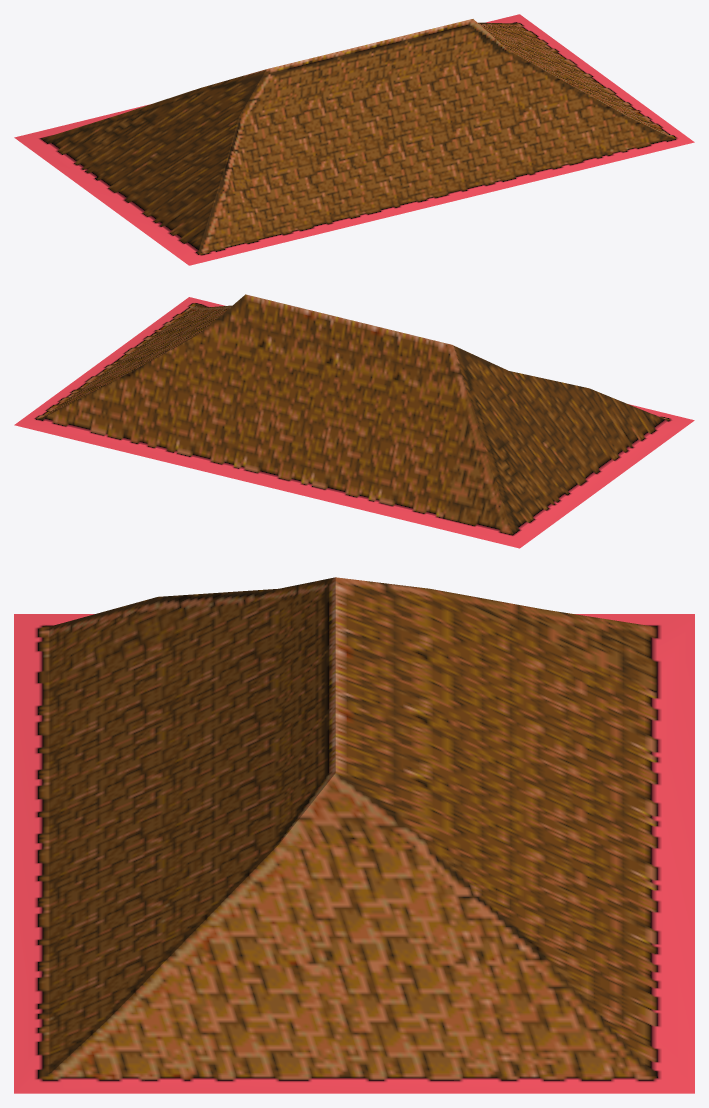
Rendered from roof_7088135.glb.
3 renders of one model, top to bottom at view 1: azimuth 30°, elevation 25°; view 2: azimuth 150°, elevation 25°; view 3: azimuth 270°, elevation 25°, orthographic. The views are drawn at different scales.
Parts seen in each view (by area): view 1: mesh; view 2: mesh; view 3: mesh.
Boxes of the visible parts, x1,y1,x2,y2 form: mesh: (14,14,694,265); mesh: (14,294,694,548); mesh: (14,577,694,1093).
Size of the model in its own units: 30 by 5.5 by 18.
1 material, 1 textured.
